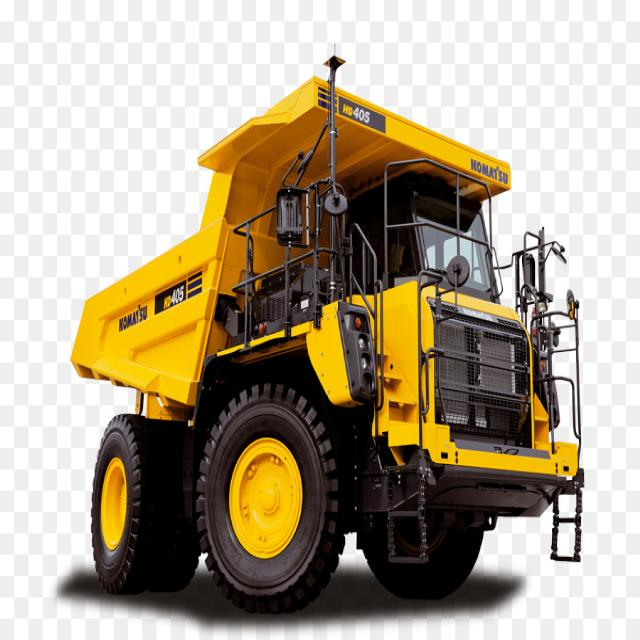dump_truck: (72, 71, 583, 612)
